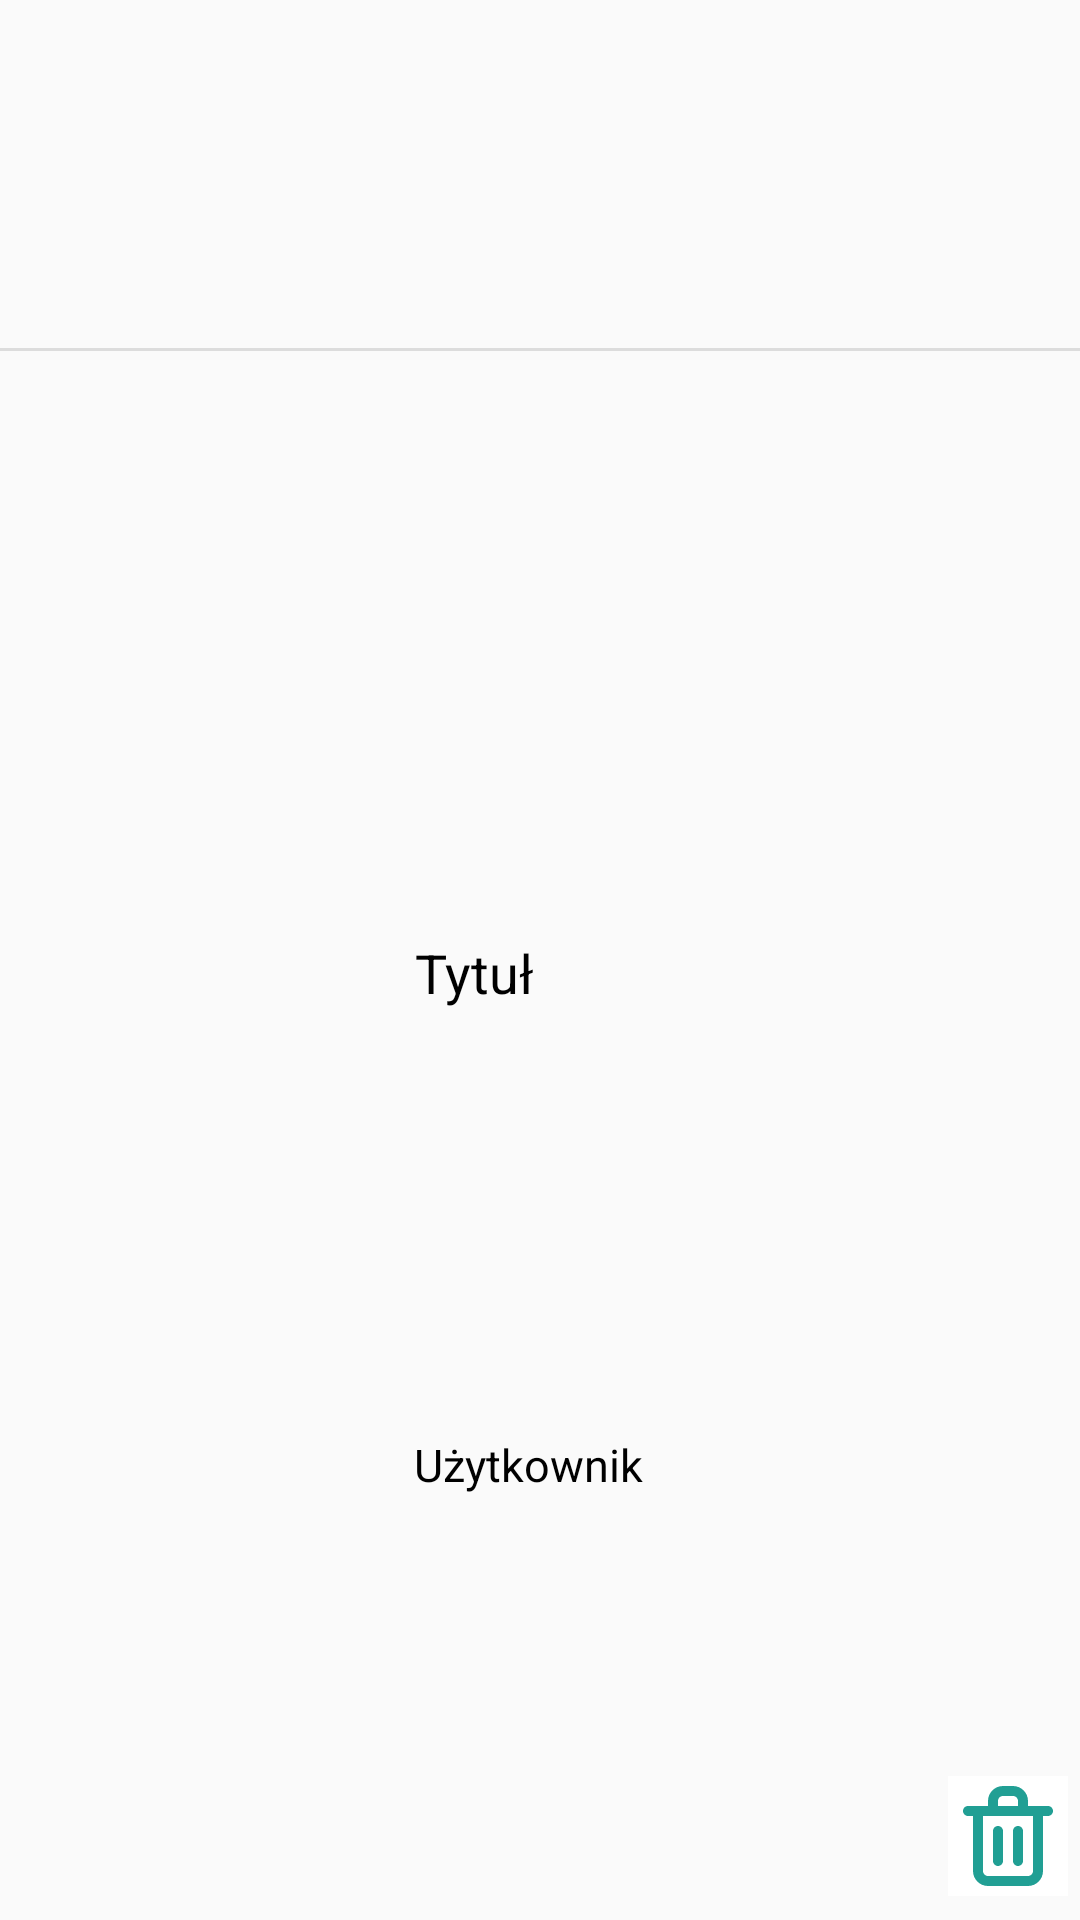

Screen size 1080*1920. Icon name, then its center in pixels as (x=x, y=y):
trash: (x=1008, y=1836)
